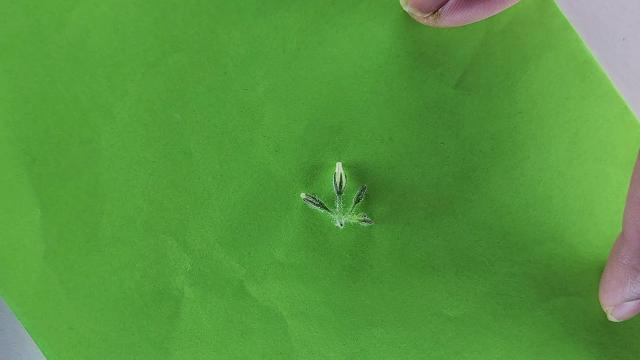Flower Bud: (301, 192, 333, 213), (351, 184, 368, 212), (334, 175, 345, 196), (356, 215, 374, 225)
